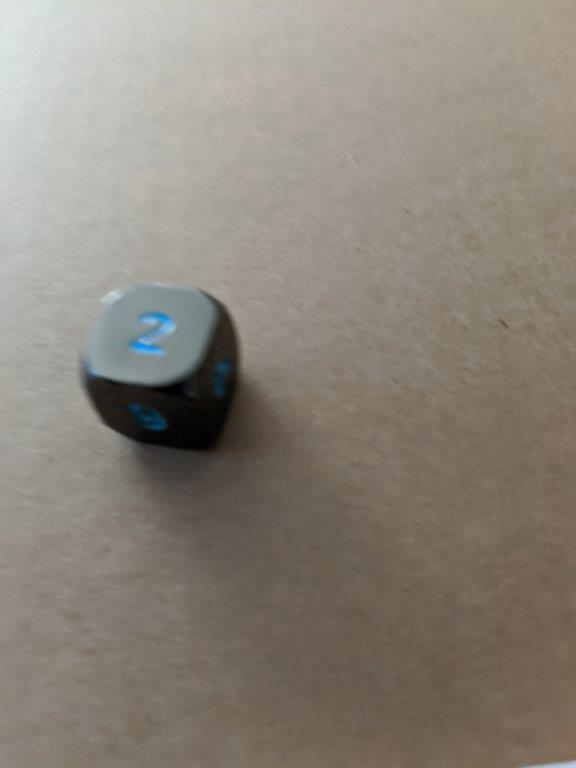d6-2: (78, 280, 246, 452)
